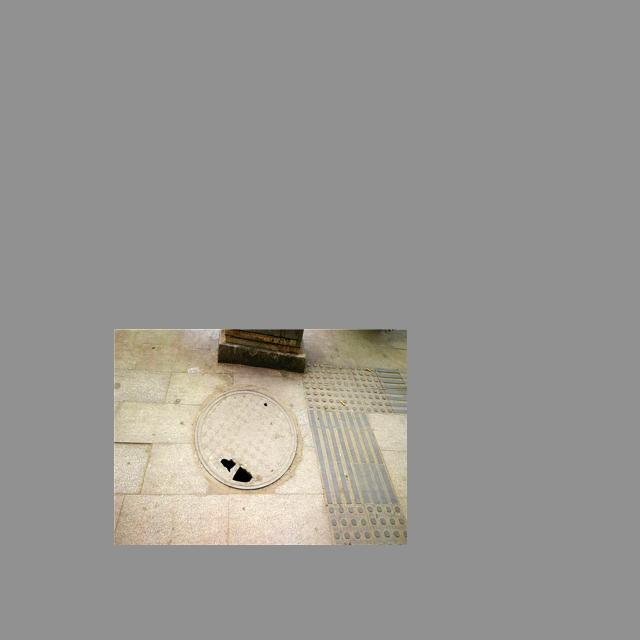broke: (195, 387, 297, 489)
